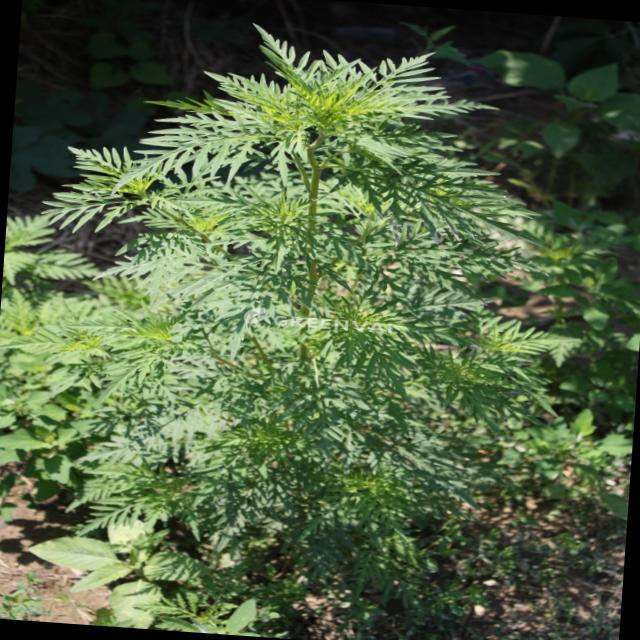ambrosia: (109, 272, 487, 570), (150, 41, 497, 297)
